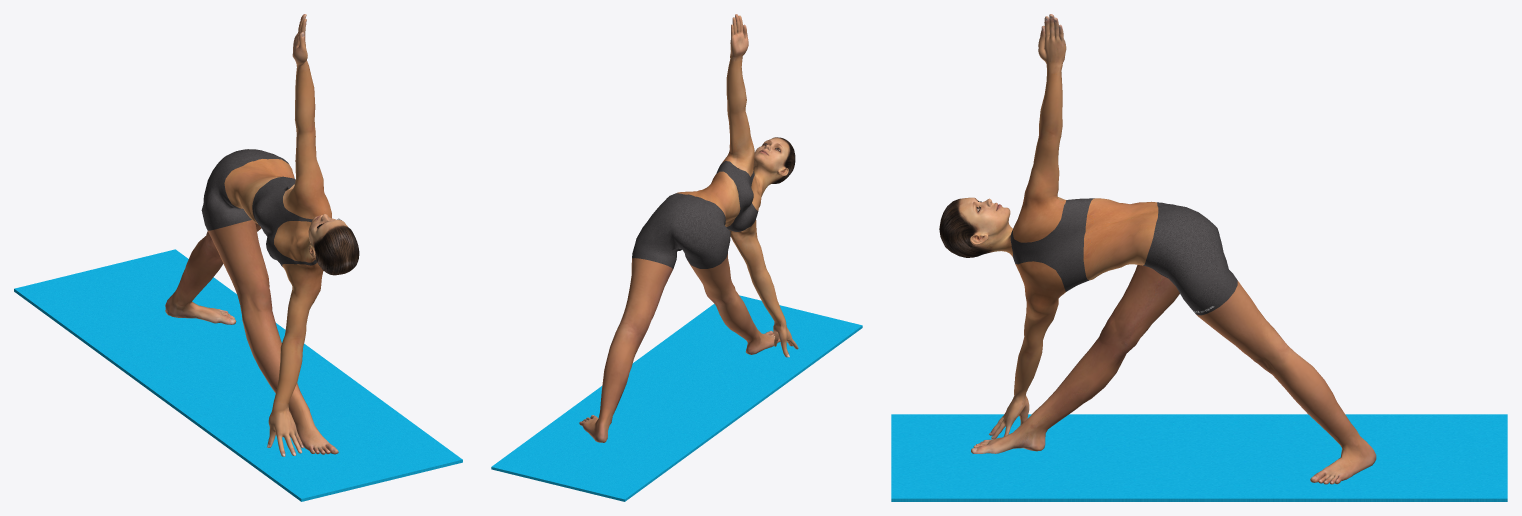
The model's file is parivrtta_trikonasana.glb.
3 renders of one model, left to right at view 1: azimuth 30°, elevation 25°; view 2: azimuth 150°, elevation 25°; view 3: azimuth 270°, elevation 25°, orthographic. The views are drawn at different scales.
Parts seen in each view (by area): view 1: Mat-one-piece_jpg-material, Lily_Texture01_06_2016_jpg-material; view 2: Mat-one-piece_jpg-material, Lily_Texture01_06_2016_jpg-material; view 3: Mat-one-piece_jpg-material, Lily_Texture01_06_2016_jpg-material.
Boxes of the visible parts, left/top/right/bottom form: Mat-one-piece_jpg-material: left=14, top=249, right=462, bottom=501; Lily_Texture01_06_2016_jpg-material: left=165, top=14, right=359, bottom=456; Mat-one-piece_jpg-material: left=491, top=295, right=862, bottom=501; Lily_Texture01_06_2016_jpg-material: left=579, top=14, right=798, bottom=442; Mat-one-piece_jpg-material: left=891, top=414, right=1507, bottom=501; Lily_Texture01_06_2016_jpg-material: left=939, top=14, right=1376, bottom=484.
Size of the model in its own units: 2 by 4.91 by 6.17.
Materials: 3 (2 with a texture image).
